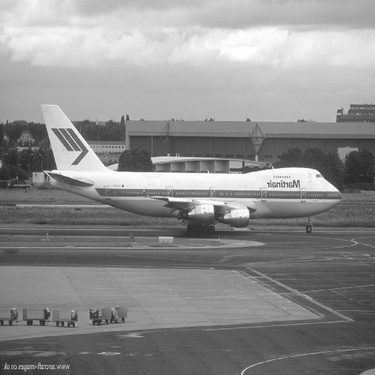airplane: (29, 90, 346, 240)
